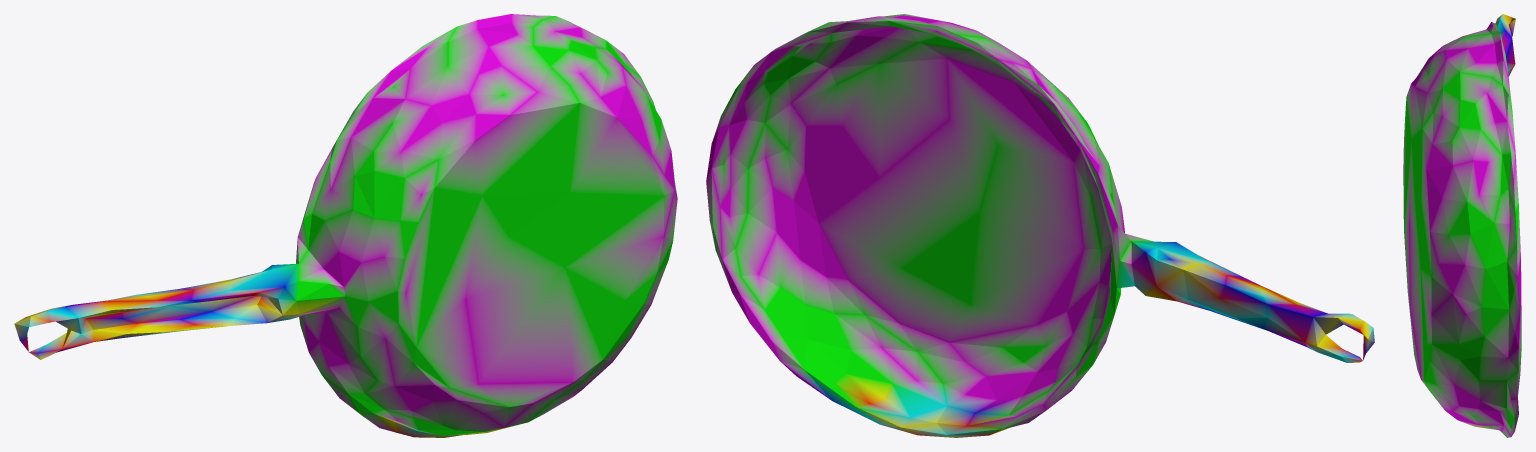
3 renders of one model, left to right at view 1: azimuth 30°, elevation 25°; view 2: azimuth 150°, elevation 25°; view 3: azimuth 270°, elevation 25°, orthographic. The views are drawn at different scales.
Visible parts, largest first — view 1: node; view 2: node; view 3: node.
Part boxes in pixels (<box>): node: <box>14,14,677,437</box>; node: <box>706,14,1374,437</box>; node: <box>1403,14,1521,437</box>.
Size of the model in its own units: 0.4954 by 0.2973 by 0.0844.
